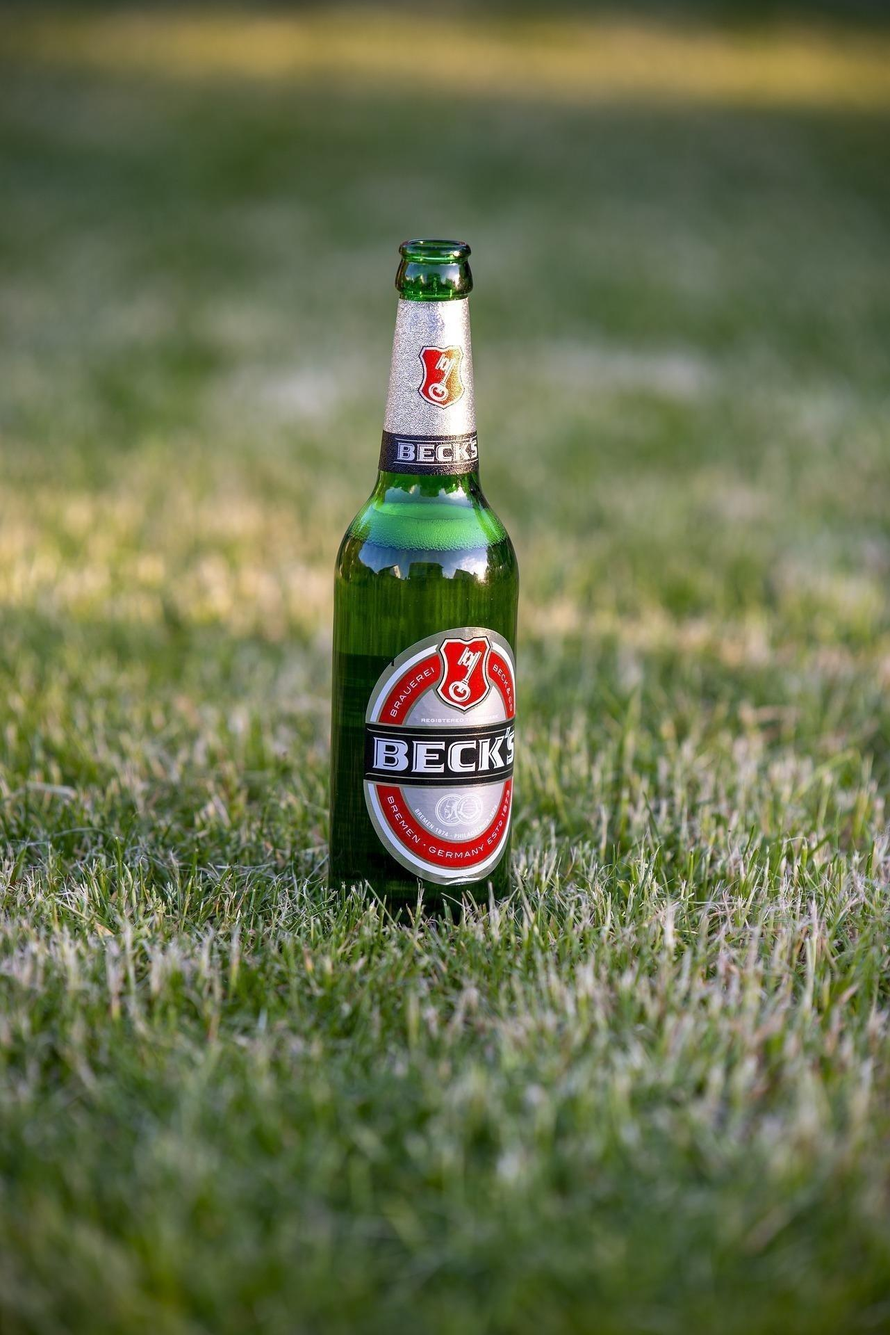bottle-glass: (323, 238, 521, 919)
